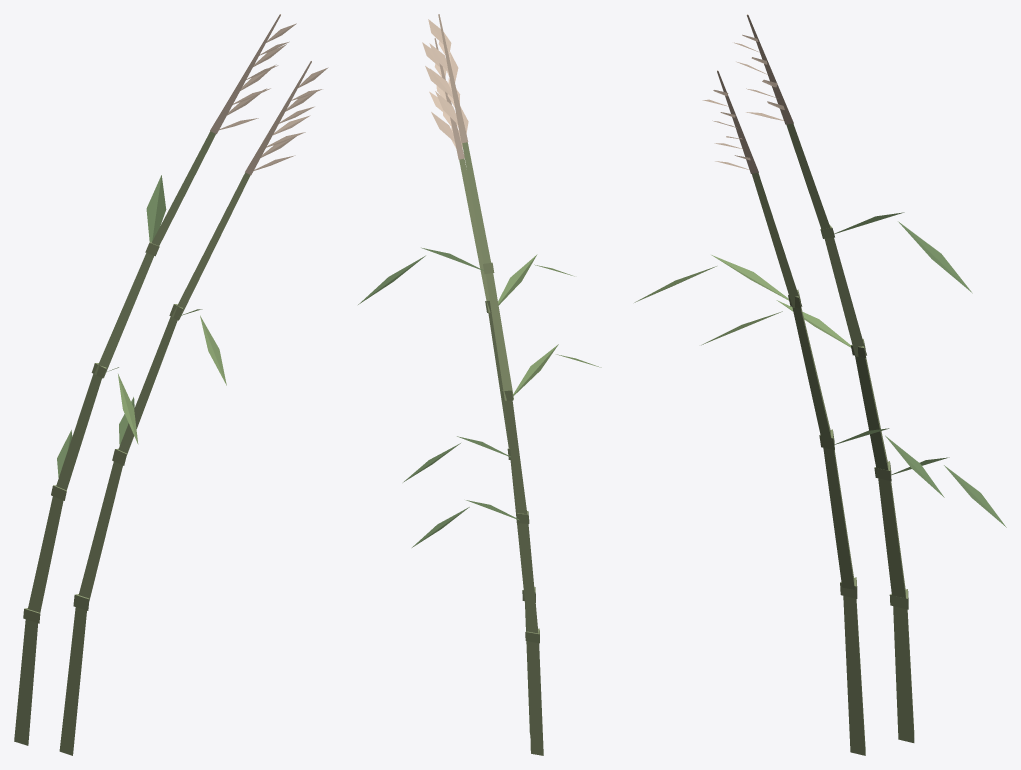
The model's file is shui.luwei@flowering__summer.glb.
3 views of the same model, side by side, from view 1: azimuth 30°, elevation 25°; view 2: azimuth 150°, elevation 25°; view 3: azimuth 270°, elevation 25° (orthographic). The views are drawn at different scales.
Visible parts, largest first — view 1: shui.luwei@flowering__summer; view 2: shui.luwei@flowering__summer; view 3: shui.luwei@flowering__summer.
Boxes of the visible parts, <box> form: shui.luwei@flowering__summer: <box>14,14,328,755</box>; shui.luwei@flowering__summer: <box>358,14,601,755</box>; shui.luwei@flowering__summer: <box>634,14,1006,755</box>.
Bounding box in the file's own units: 1.03 × 3.2 × 1.32.
